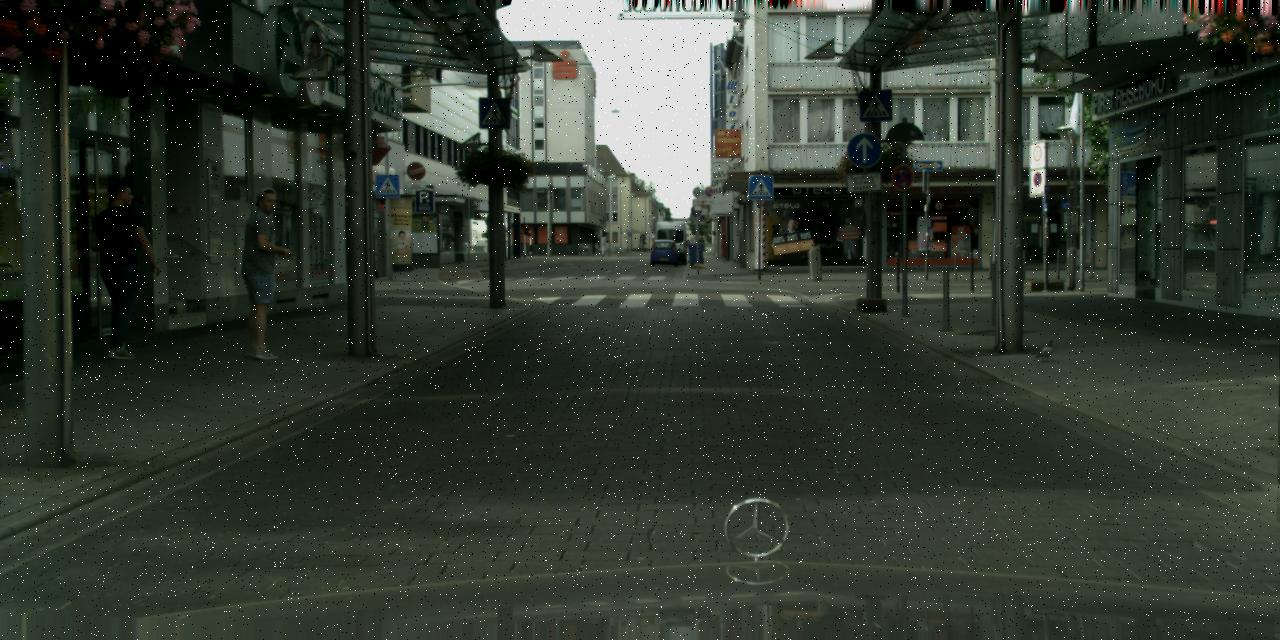ped: (83, 180, 156, 358), (229, 187, 299, 356)
